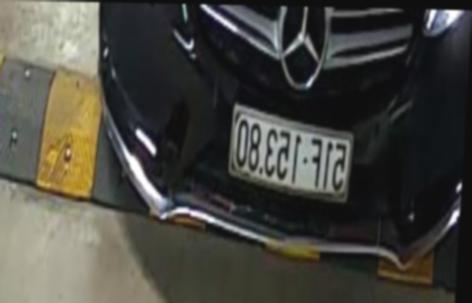License_Plate: (218, 107, 363, 197)
